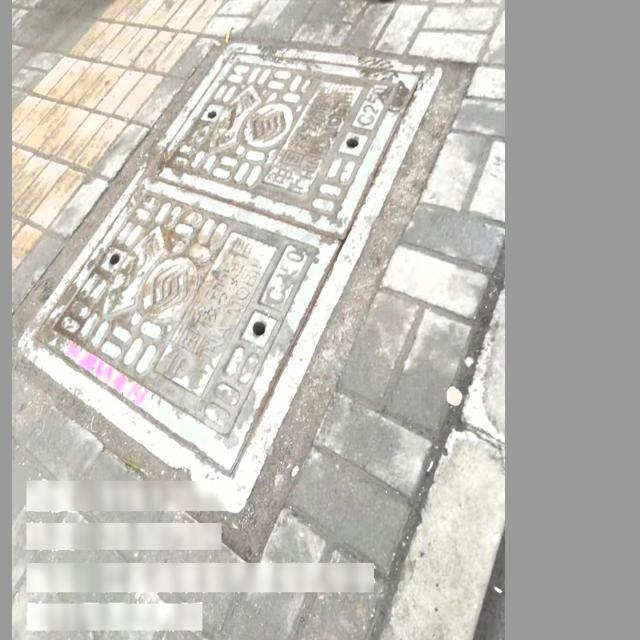good: (16, 42, 442, 516)
